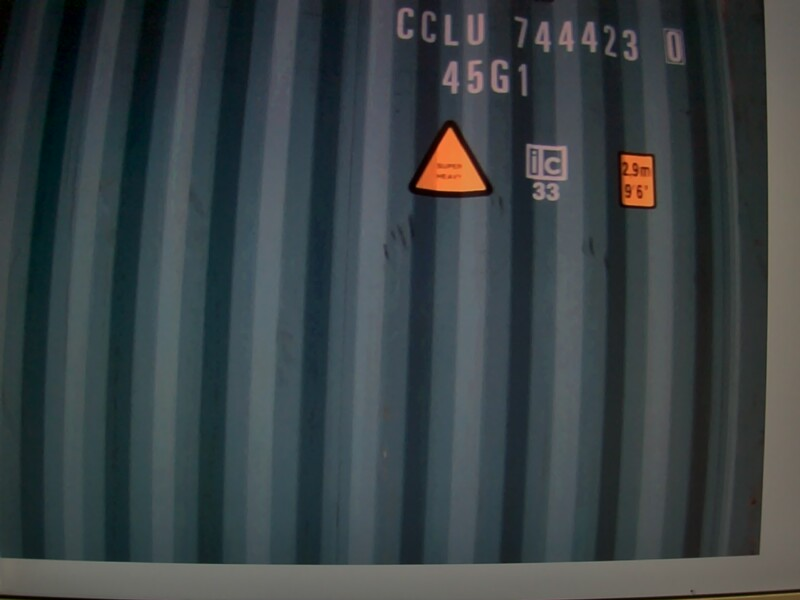container_no_door: (82, 6, 745, 552)
